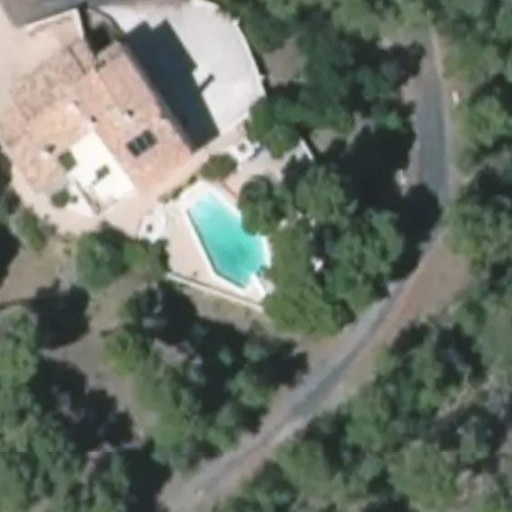pool: (177, 233, 314, 263)
